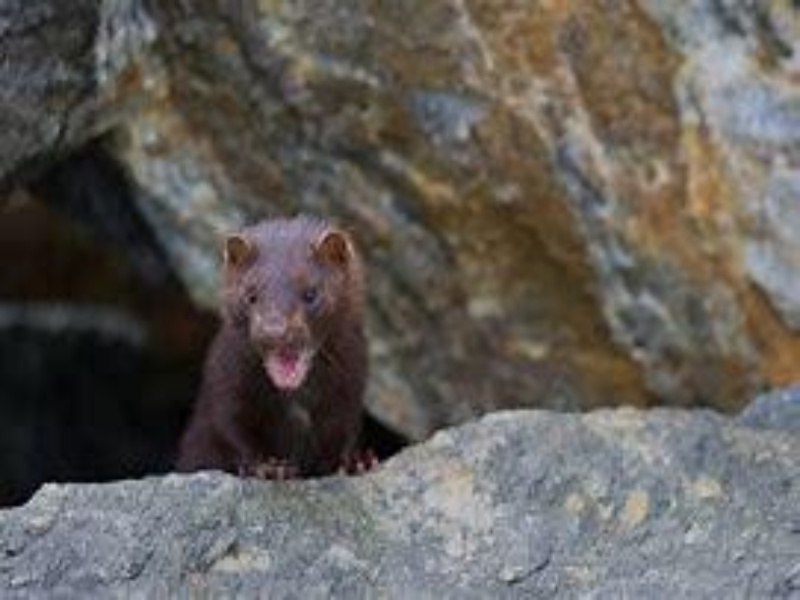minkish: (149, 216, 385, 485)
